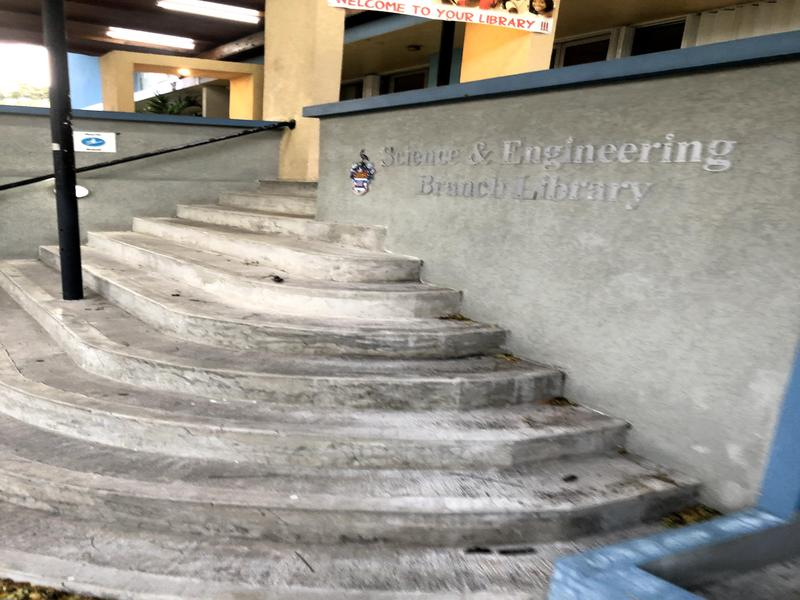18.0053644_-76.7493880_librarysign: (375, 132, 783, 209)
